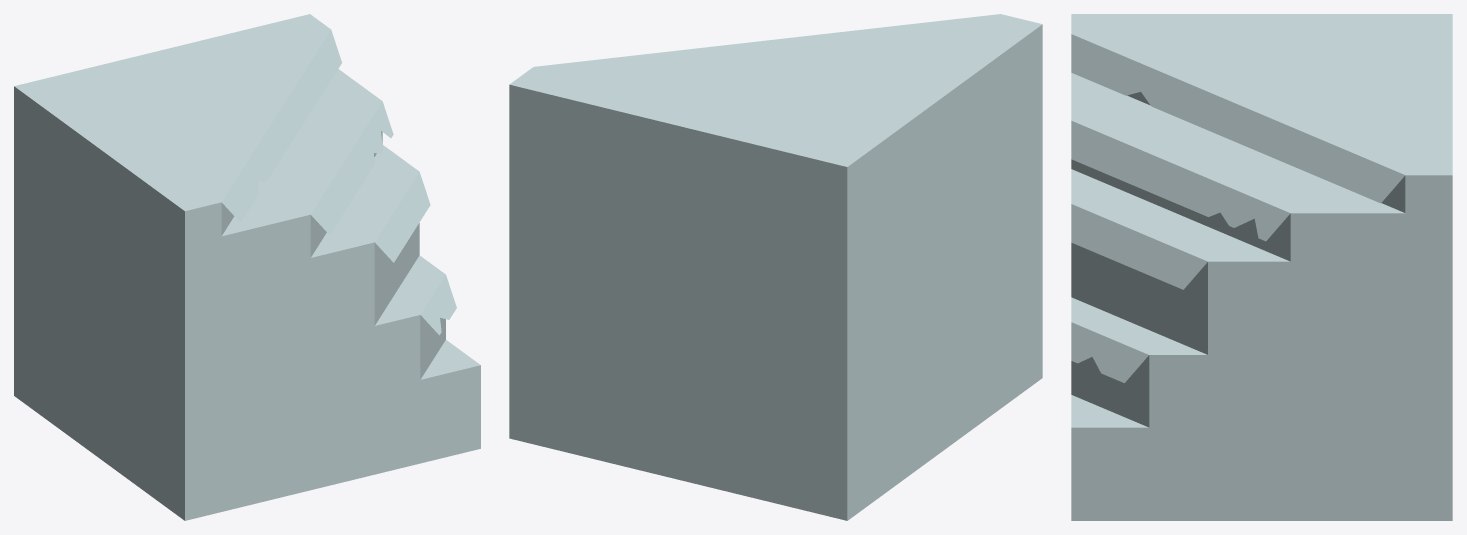
File: cliffGrey_stepsCornerInner.fbx
3 views of the same model, side by side, from view 1: azimuth 30°, elevation 25°; view 2: azimuth 150°, elevation 25°; view 3: azimuth 270°, elevation 25° (orthographic). The views are drawn at different scales.
Visible parts, largest first — view 1: cliffGrey_stepsCornerInner; view 2: cliffGrey_stepsCornerInner; view 3: cliffGrey_stepsCornerInner.
Part boxes in pixels (bbox=[...]): cliffGrey_stepsCornerInner: bbox=[14, 14, 480, 520]; cliffGrey_stepsCornerInner: bbox=[509, 14, 1042, 520]; cliffGrey_stepsCornerInner: bbox=[1071, 14, 1452, 520].
Size of the model in its own units: 300 by 300 by 300.
